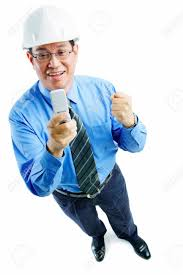Person_wearing_helmet: (11, 0, 89, 63)
